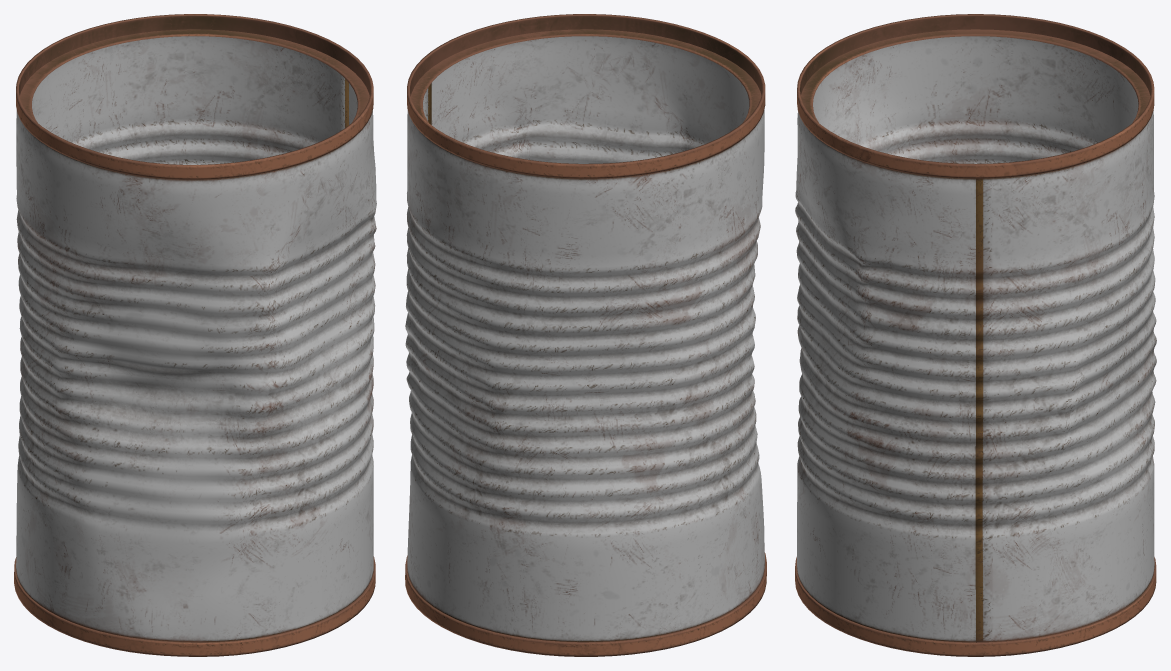
The model's file is Can Damaged_edit_for_FBX.fbx.
The picture shows the model from 3 angles, left to right: view 1: azimuth 30°, elevation 25°; view 2: azimuth 150°, elevation 25°; view 3: azimuth 270°, elevation 25°; orthographic projection.
Visible parts, largest first — view 1: Can Damaged; view 2: Can Damaged; view 3: Can Damaged.
Boxes of the visible parts, bbox=[...] form: Can Damaged: bbox=[14, 14, 376, 656]; Can Damaged: bbox=[405, 14, 766, 656]; Can Damaged: bbox=[795, 14, 1156, 656].
Size of the model in its own units: 108 by 161 by 108.
